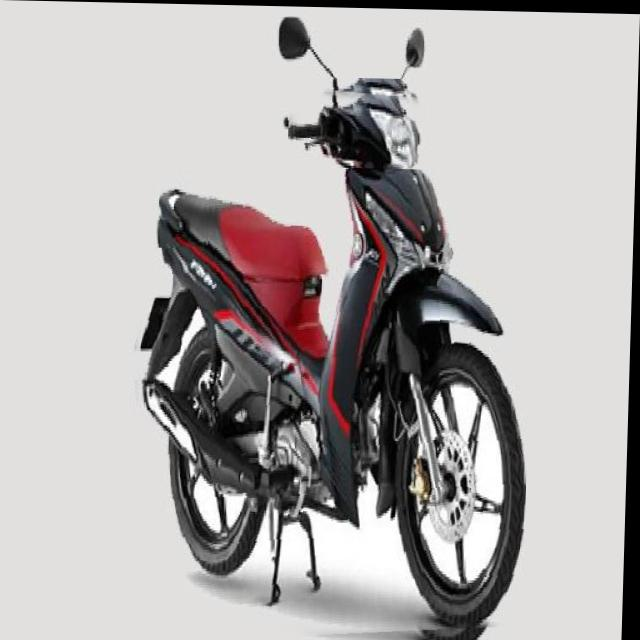All: (120, 72, 538, 640)
Head: (286, 85, 428, 168)
Tail: (151, 183, 211, 249)
